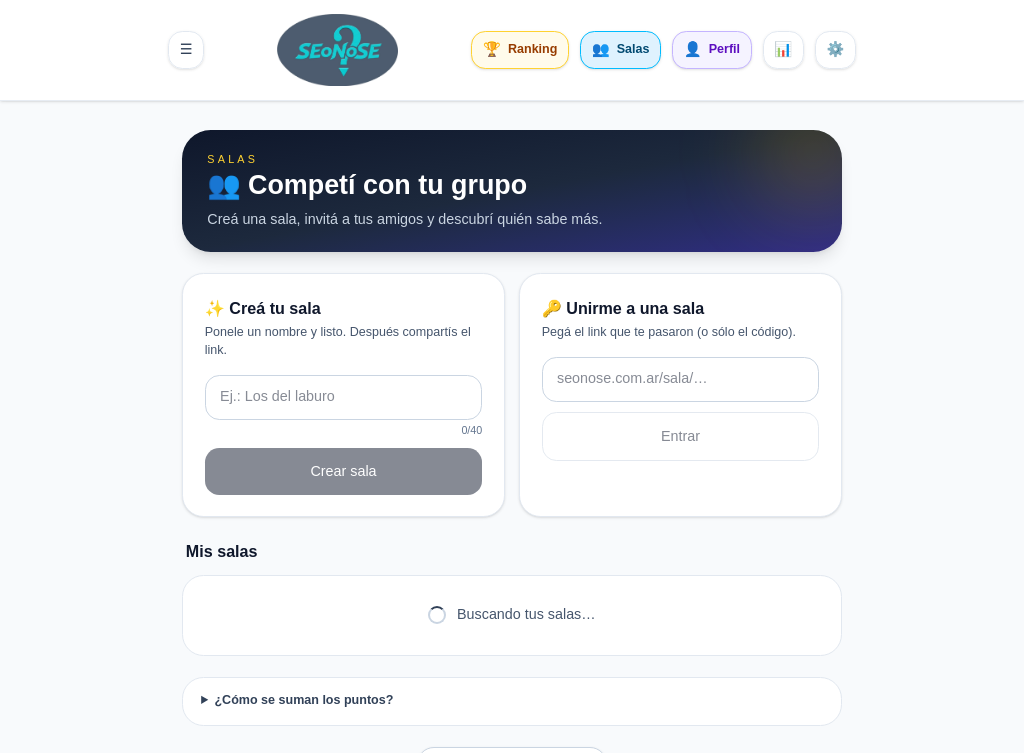
Test case: crear una sala › muestra un error claro si no hay conexión y permite reintentar
Type "Oficina" into the field named "Nombre de la sala" at (344, 397), box x1=205 y1=375 x2=482 y2=420
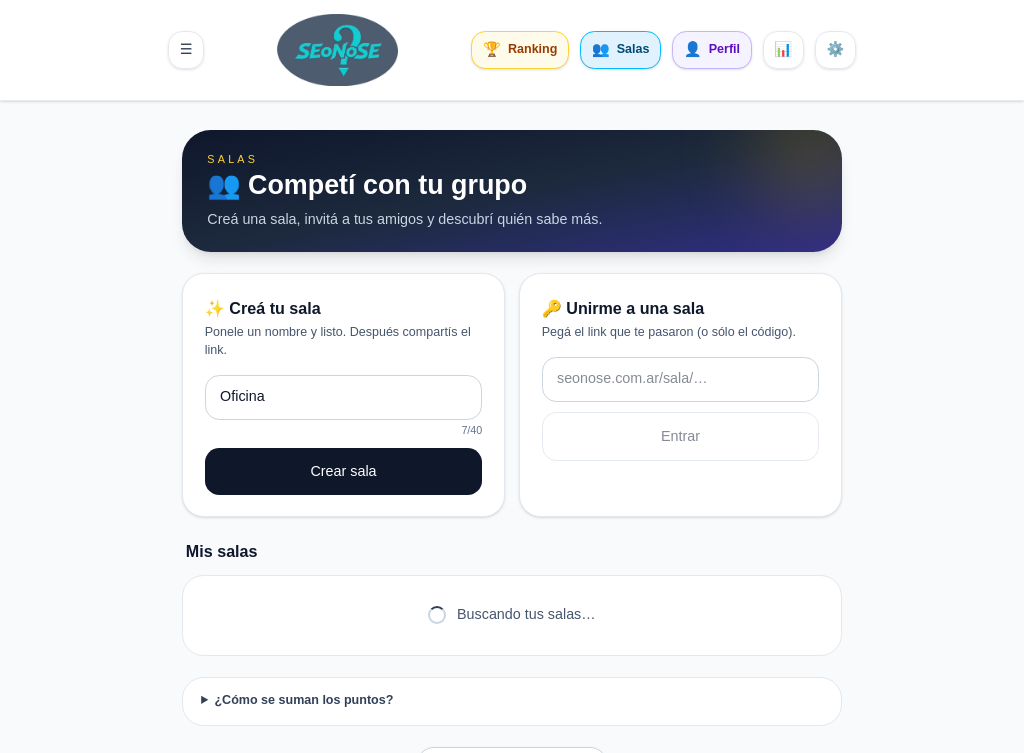
Click the button "Crear sala" at (344, 472), box x1=205 y1=448 x2=482 y2=495
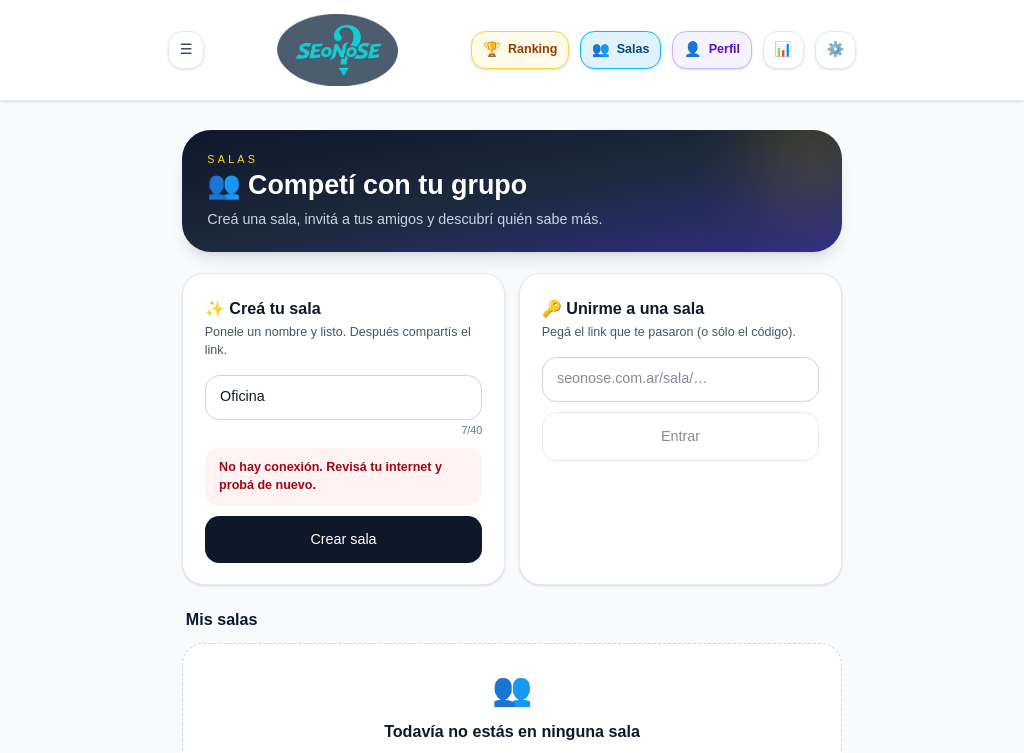
Now the button "Crear sala" is enabled, box x1=205 y1=516 x2=482 y2=563
Now the text "No hay conexión. Revisá tu internet y probá de nuevo." is shown, box x1=205 y1=448 x2=482 y2=506
